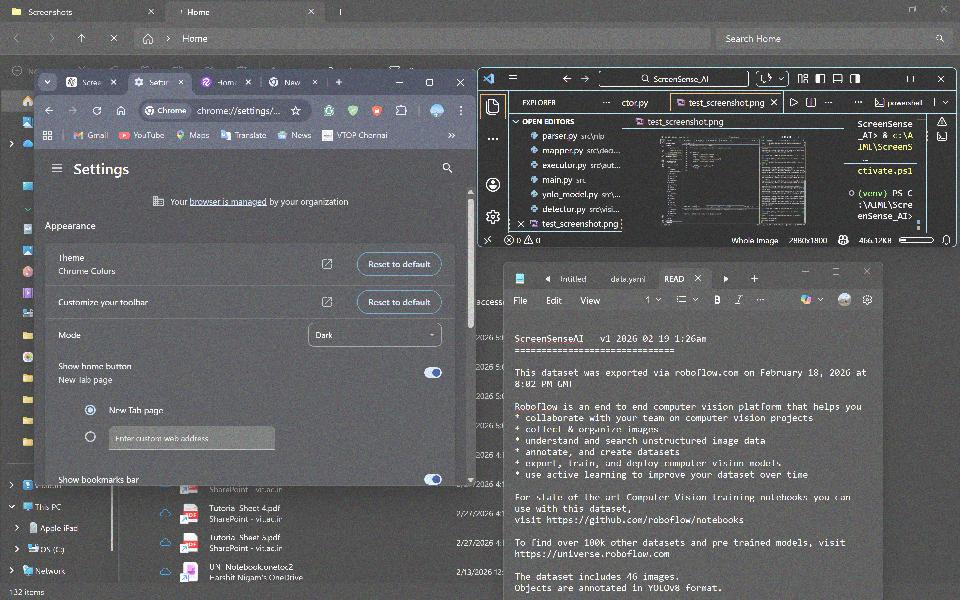close_button: (450, 73, 472, 92), (857, 265, 877, 283), (933, 70, 951, 89), (935, 3, 953, 20)
maximize_button: (825, 264, 846, 285), (902, 1, 924, 21), (420, 72, 440, 93), (898, 70, 922, 87)
minimize_button: (385, 72, 413, 92), (794, 263, 816, 283), (868, 72, 892, 90), (872, 3, 896, 21)
